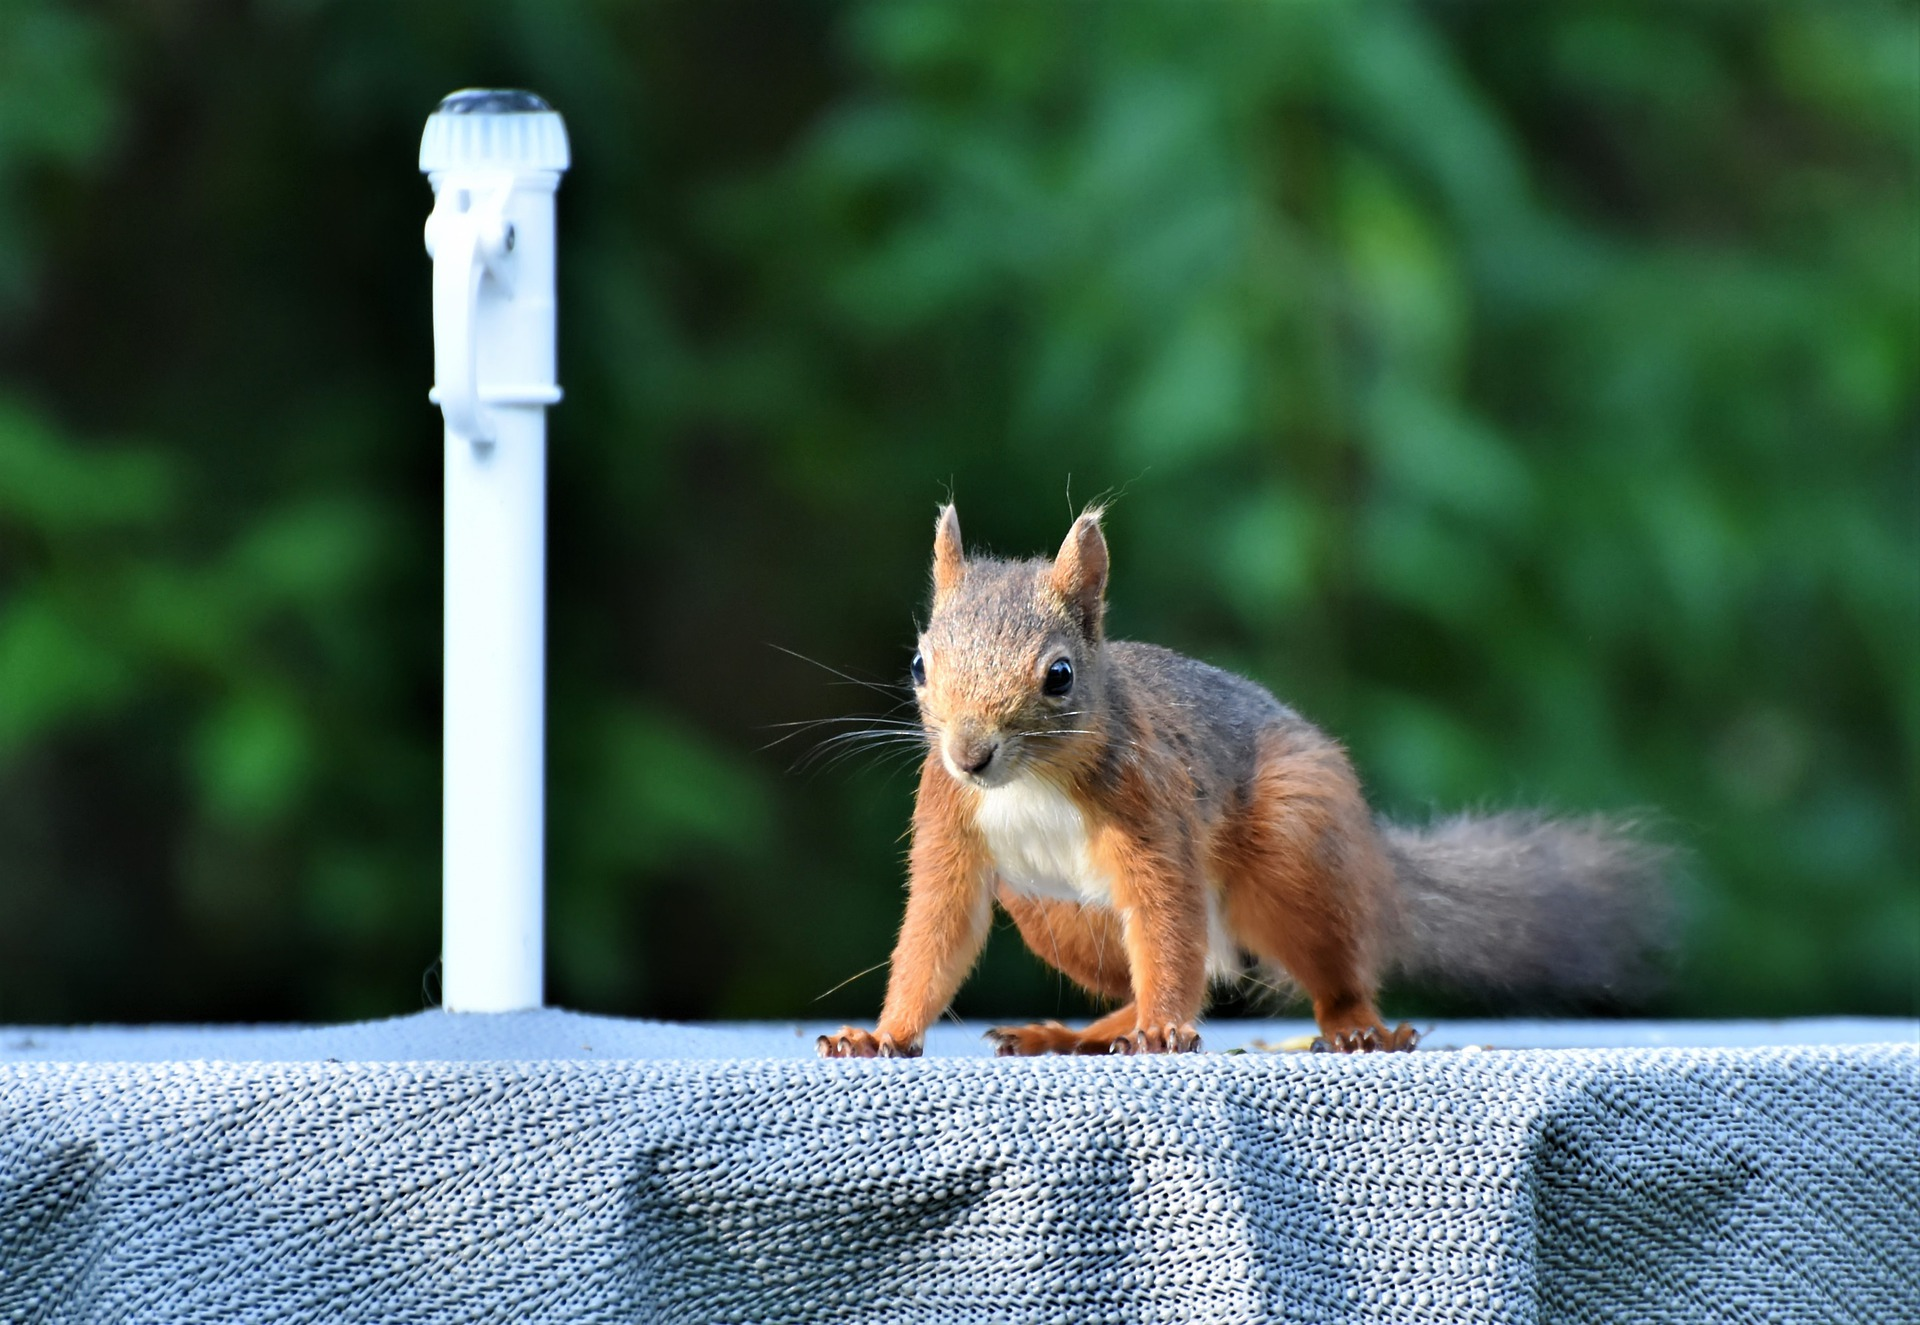squirrel: (810, 486, 1624, 1056)
